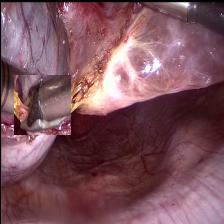Clipper: (13, 74, 70, 134)
